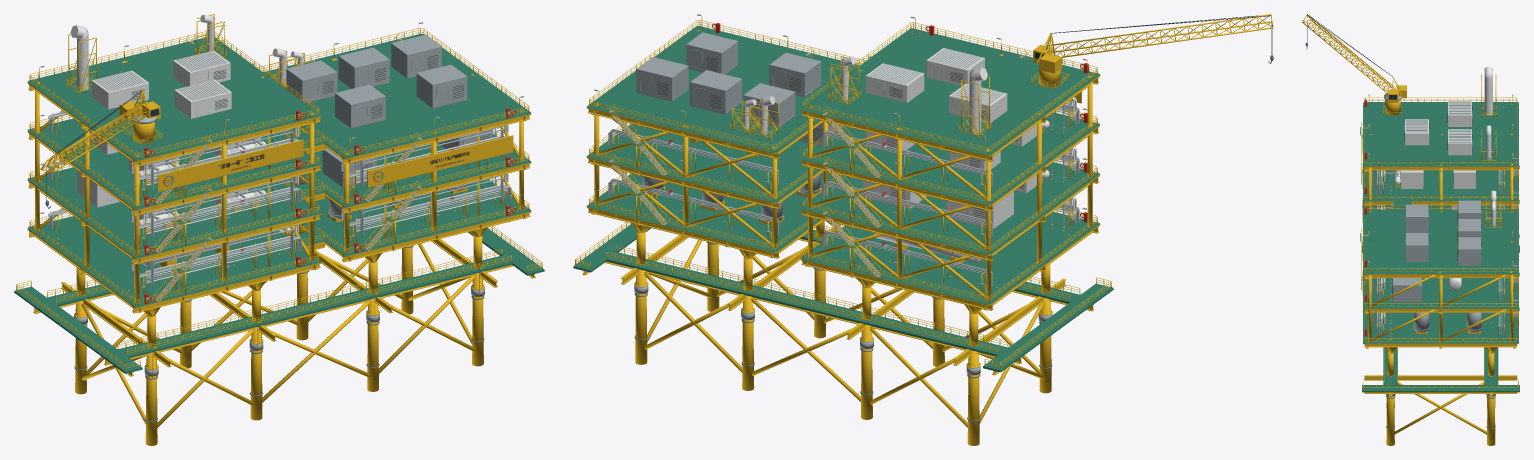
Rendered from shipModelData-deepsea1.glb.
3 views of the same model, side by side, from view 1: azimuth 30°, elevation 25°; view 2: azimuth 150°, elevation 25°; view 3: azimuth 270°, elevation 25° (orthographic). The views are drawn at different scales.
Visible parts, largest first — view 1: 主处理模块 | 1层绿色甲板, 共同支承层 | 纵向黄钢梁 | 钢架工程黄, 支腿 -28/-10.5 | 水线连接套 | 设备冷灰, 主处理 | 中层压缩设备外罩 | 外罩, 主处理 | 下层卧式容器 | 灰色加强环 | 管道金属灰, 共同支承层 | 黄钢框与绿色甲板, 主处理 | 中层压缩设备外罩 | 百叶口 | 孔槽与钢缆深灰, 主处理模块 | 阀门杆 | 安全阀门红; view 2: 主处理模块 | 1层绿色甲板, 共同支承层 | 纵向黄钢梁 | 钢架工程黄, 支腿 -28/-10.5 | 水线连接套 | 设备冷灰, 主处理 | 中层压缩设备外罩 | 外罩, 共同支承层 | 黄钢框与绿色甲板, 主处理 | 下层卧式容器 | 灰色加强环 | 管道金属灰, 主处理 | 中层压缩设备外罩 | 百叶口 | 孔槽与钢缆深灰; view 3: 主处理模块 | 1层绿色甲板, 共同支承层 | 纵向黄钢梁 | 钢架工程黄, 支腿 -28/-10.5 | 水线连接套 | 设备冷灰, 主处理 | 中层压缩设备外罩 | 外罩, 主处理 | 下层卧式容器 | 灰色加强环 | 管道金属灰, 共同支承层 | 黄钢框与绿色甲板, 主处理 | 中层压缩设备外罩 | 百叶口 | 孔槽与钢缆深灰.
Boxes of the visible parts, x1,y1,x2,y2 form: 主处理模块 | 1层绿色甲板: [27, 33, 531, 308]; 共同支承层 | 纵向黄钢梁 | 钢架工程黄: [16, 14, 542, 445]; 支腿 -28/-10.5 | 水线连接套 | 设备冷灰: [40, 22, 524, 376]; 主处理 | 中层压缩设备外罩 | 外罩: [70, 15, 509, 299]; 主处理 | 下层卧式容器 | 灰色加强环 | 管道金属灰: [48, 51, 511, 288]; 共同支承层 | 黄钢框与绿色甲板: [14, 227, 544, 373]; 主处理 | 中层压缩设备外罩 | 百叶口 | 孔槽与钢缆深灰: [46, 55, 489, 214]; 主处理模块 | 阀门杆 | 安全阀门红: [144, 108, 516, 303]; 主处理模块 | 1层绿色甲板: [586, 26, 1100, 305]; 共同支承层 | 纵向黄钢梁 | 钢架工程黄: [575, 14, 1273, 445]; 支腿 -28/-10.5 | 水线连接套 | 设备冷灰: [594, 14, 1086, 375]; 主处理 | 中层压缩设备外罩 | 外罩: [743, 48, 1076, 262]; 共同支承层 | 黄钢框与绿色甲板: [573, 223, 1113, 372]; 主处理 | 下层卧式容器 | 灰色加强环 | 管道金属灰: [608, 48, 1079, 286]; 主处理 | 中层压缩设备外罩 | 百叶口 | 孔槽与钢缆深灰: [657, 15, 1272, 219]; 主处理模块 | 1层绿色甲板: [1362, 102, 1519, 344]; 共同支承层 | 纵向黄钢梁 | 钢架工程黄: [1302, 14, 1518, 445]; 支腿 -28/-10.5 | 水线连接套 | 设备冷灰: [1363, 94, 1518, 396]; 主处理 | 中层压缩设备外罩 | 外罩: [1377, 66, 1496, 323]; 主处理 | 下层卧式容器 | 灰色加强环 | 管道金属灰: [1371, 93, 1504, 335]; 共同支承层 | 黄钢框与绿色甲板: [1362, 245, 1519, 392]; 主处理 | 中层压缩设备外罩 | 百叶口 | 孔槽与钢缆深灰: [1306, 15, 1481, 297].
Size of the model in its own units: 92.71 by 60.52 by 45.5.
